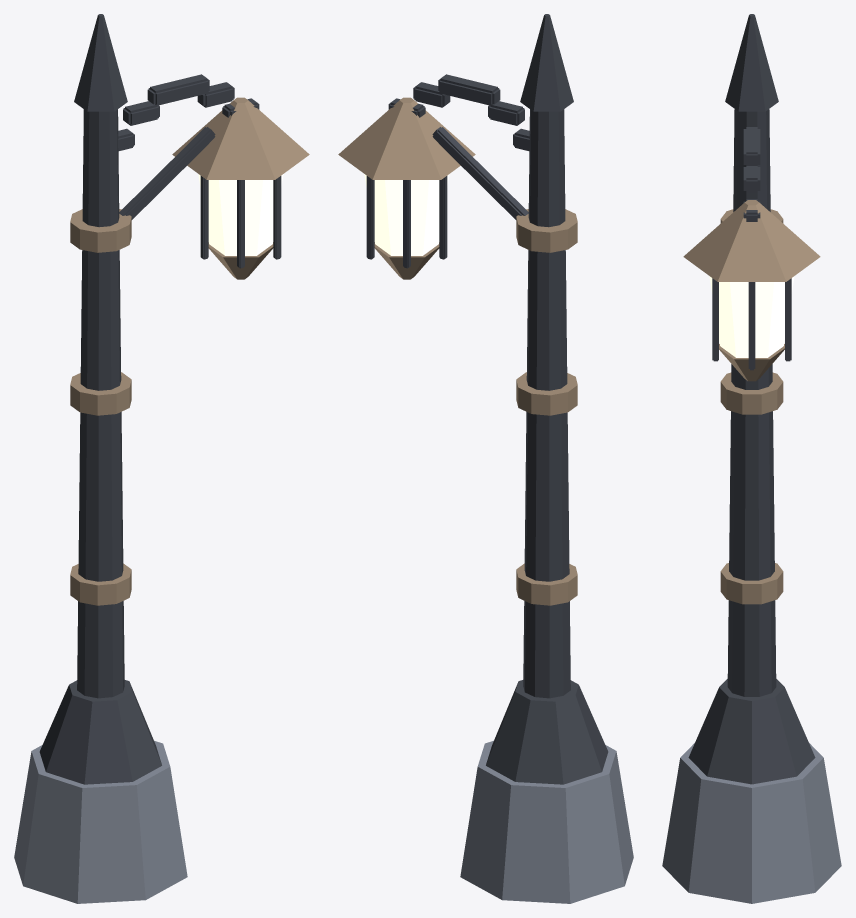
The model's file is gothic_lamp_post.glb.
The picture shows the model from 3 angles, left to right: view 1: azimuth 30°, elevation 25°; view 2: azimuth 150°, elevation 25°; view 3: azimuth 270°, elevation 25°; orthographic projection.
Parts seen in each view (by area): view 1: LampIron, LampStone, LampBronze, LampGlow; view 2: LampIron, LampStone, LampBronze, LampGlow; view 3: LampIron, LampStone, LampBronze, LampGlow.
Part boxes in pixels (x1,y1,x2,y2): LampIron: [39, 14, 281, 784]; LampStone: [14, 740, 187, 903]; LampBronze: [70, 97, 309, 605]; LampGlow: [198, 174, 283, 255]; LampIron: [366, 14, 608, 784]; LampStone: [460, 740, 633, 903]; LampBronze: [338, 97, 577, 605]; LampGlow: [364, 174, 449, 255]; LampIron: [688, 14, 815, 784]; LampStone: [662, 743, 841, 903]; LampBronze: [683, 200, 820, 604]; LampGlow: [709, 276, 794, 357].
Bounding box in the file's own units: 1.04 × 3.14 × 0.6.
